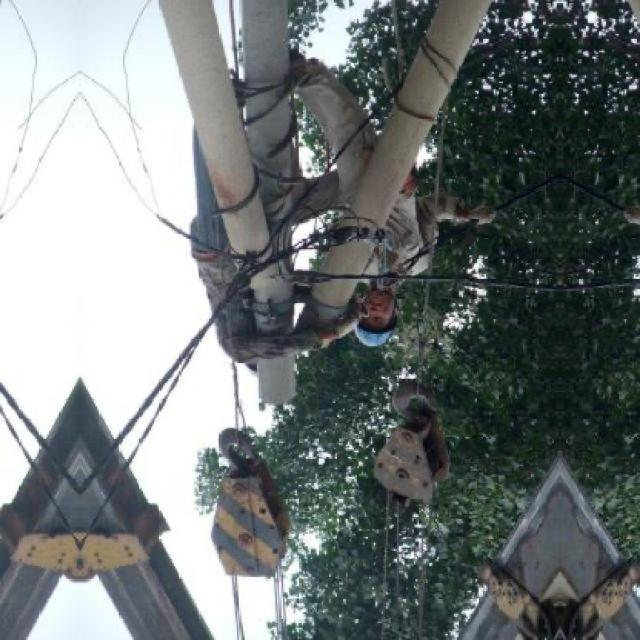con casco: (346, 289, 403, 343)
